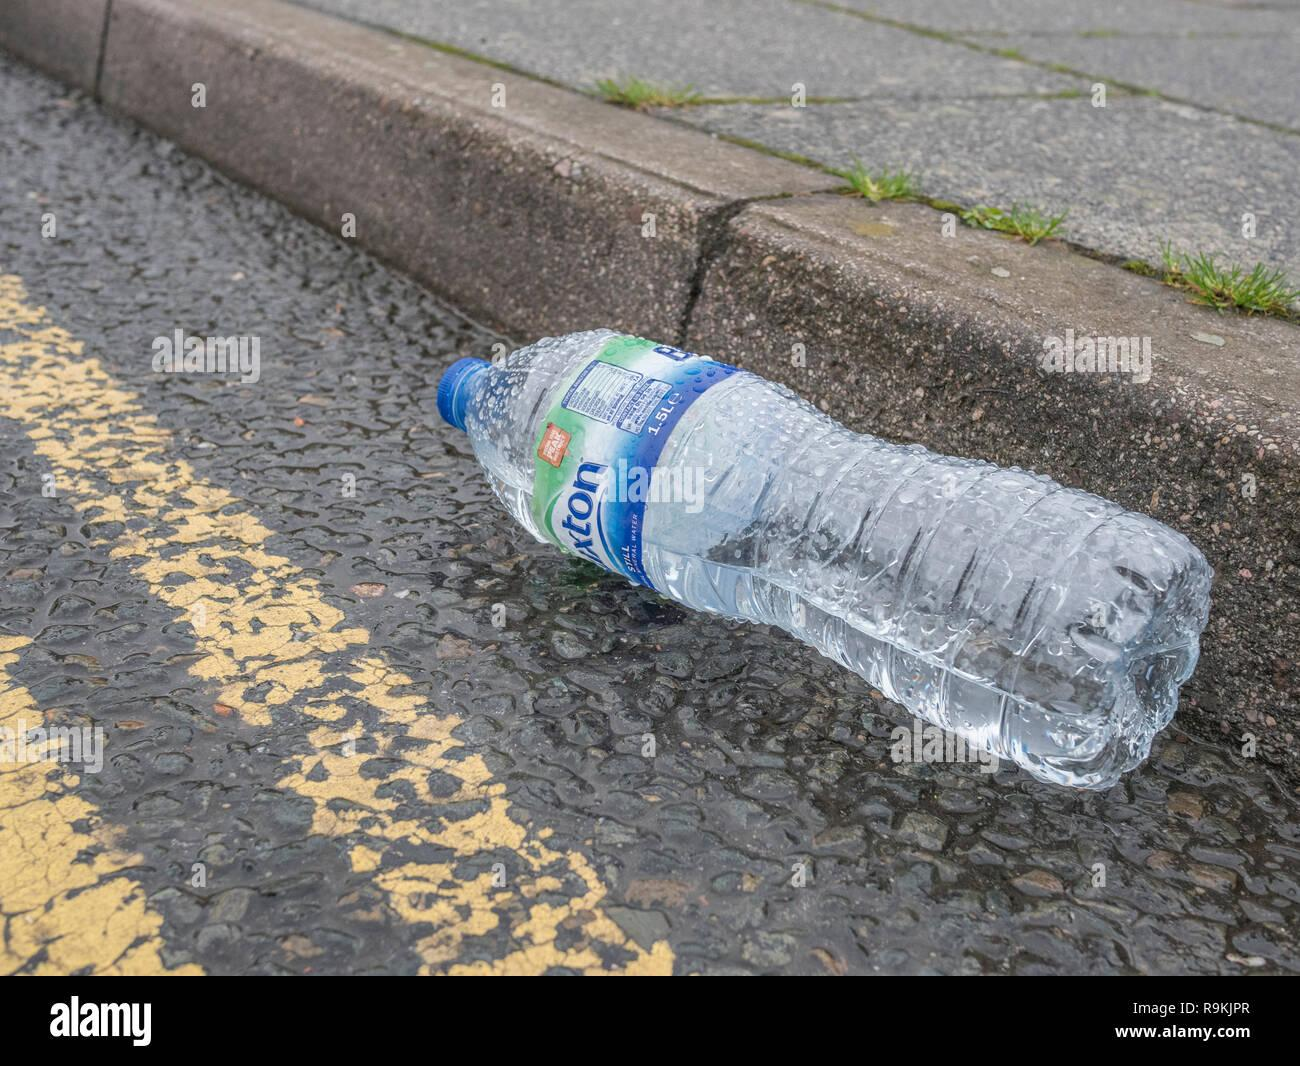bottle: (435, 310, 1227, 849)
